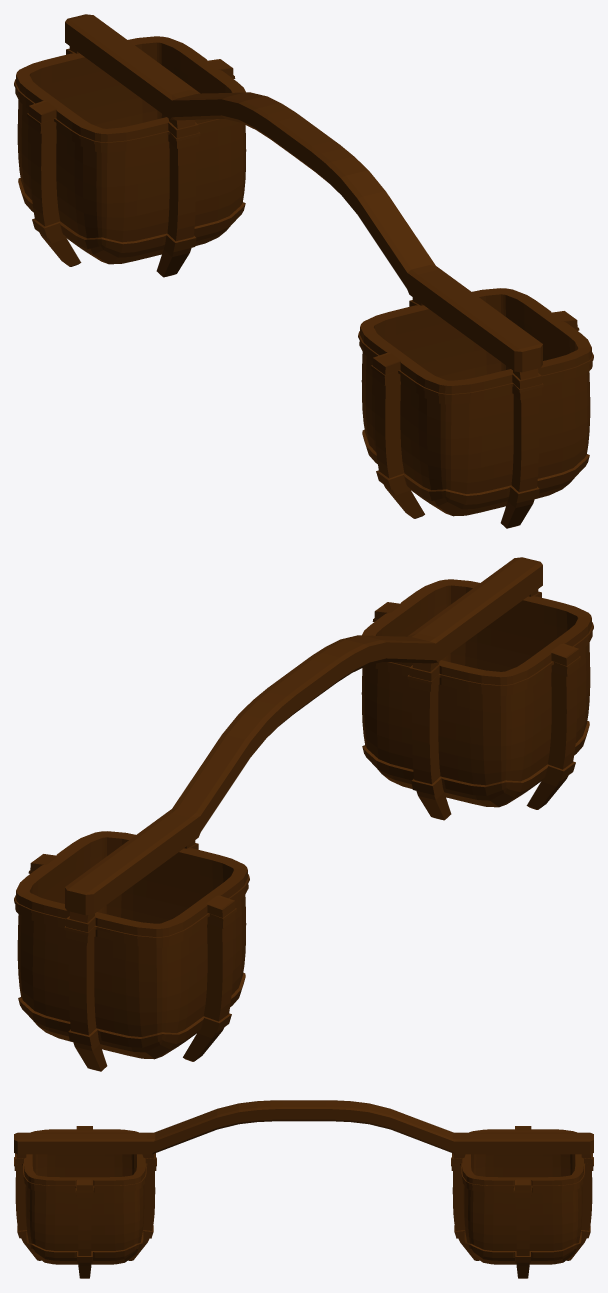
File: Kimata (a).glb
The picture shows the model from 3 angles, top to bottom: view 1: azimuth 30°, elevation 25°; view 2: azimuth 150°, elevation 25°; view 3: azimuth 270°, elevation 25°; orthographic projection. The views are drawn at different scales.
Parts seen in each view (by area): view 1: Cube; view 2: Cube; view 3: Cube.
Part boxes in pixels (bbox=[...]): Cube: bbox=[14, 14, 593, 528]; Cube: bbox=[14, 557, 593, 1071]; Cube: bbox=[14, 1100, 593, 1278].
Size of the model in its own units: 3.76 by 4.5 by 15.22.
